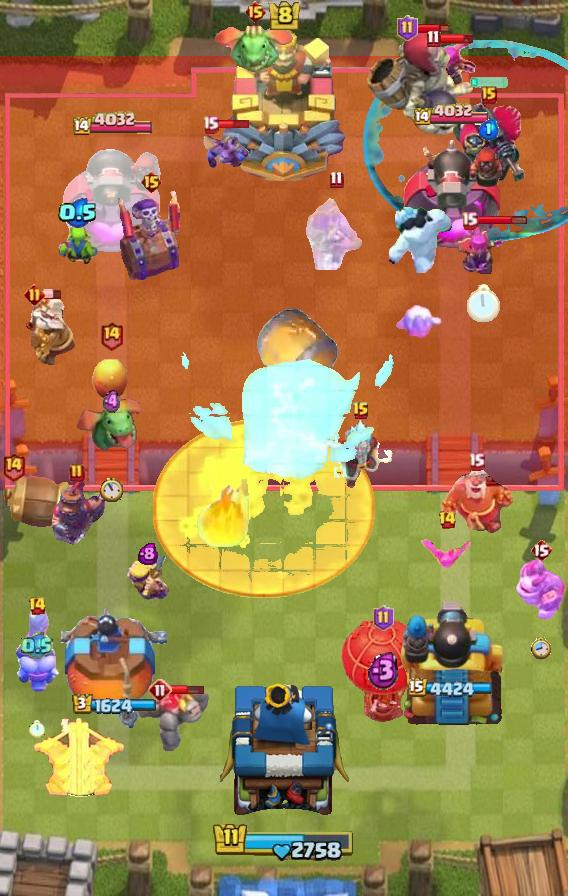arrows: (125, 555, 170, 600)
barbarian: (421, 534, 473, 572)
barbarian-hut: (299, 194, 373, 270)
cannon-cart: (341, 621, 425, 723)
clock: (212, 821, 356, 863)
dirt: (254, 305, 340, 393)
electro-giant: (362, 29, 476, 137)
electro-spirit: (367, 650, 400, 690), (58, 198, 98, 228), (21, 632, 53, 660), (103, 389, 121, 415), (138, 543, 158, 566), (479, 119, 499, 140)
electro-wizard: (214, 20, 296, 74), (77, 396, 145, 454)
elite-barbarian: (15, 610, 59, 692)
elixir: (465, 284, 500, 325), (100, 477, 123, 503), (531, 636, 551, 659), (29, 720, 45, 738)
elixir-collector: (437, 461, 515, 535), (21, 294, 77, 368)
elixir-golem-big: (49, 475, 105, 555)
elixir-golem-small: (514, 559, 568, 619)
emote: (476, 215, 529, 226), (414, 21, 449, 35), (438, 33, 474, 45), (217, 118, 252, 130), (169, 684, 205, 695), (42, 288, 61, 300)
evolution-symbol: (418, 39, 476, 97), (457, 222, 507, 278)
hog: (92, 354, 130, 402)
ice-spirit: (468, 77, 510, 89)
inferno-tower: (451, 100, 527, 186)
king-tower: (220, 21, 348, 181), (219, 678, 349, 826)
lava-pup: (30, 718, 128, 800)
mega-knight: (178, 338, 394, 484)
mirror: (394, 304, 444, 342)
mortar: (328, 419, 394, 491)
pad_0: (362, 40, 568, 246)
phoenix-egg: (153, 420, 377, 598)
queen-tower: (61, 603, 167, 731)
rage: (389, 203, 453, 273)
royal-delivery: (200, 129, 250, 171)
selected: (72, 111, 155, 138), (414, 103, 492, 128), (409, 678, 497, 700), (71, 693, 156, 715)
skeleton-king-bar: (118, 186, 184, 280)
text: (2, 450, 27, 481), (99, 321, 124, 351), (148, 678, 172, 702), (244, 0, 267, 24), (141, 170, 164, 194), (398, 15, 419, 41), (373, 605, 394, 631), (530, 538, 552, 562), (23, 283, 44, 305), (438, 510, 457, 530), (28, 596, 47, 616), (352, 401, 370, 421), (467, 453, 485, 471), (462, 211, 479, 230), (69, 463, 85, 483), (201, 115, 218, 133), (481, 86, 497, 104), (427, 29, 442, 48), (328, 171, 343, 189)
the-log: (0, 475, 80, 529)
tower-bar: (397, 595, 509, 731), (401, 132, 508, 256), (62, 138, 166, 256)
valkyrie: (194, 479, 254, 549)
valkyrie-evolution: (135, 686, 211, 754)
zap: (56, 219, 100, 274)
